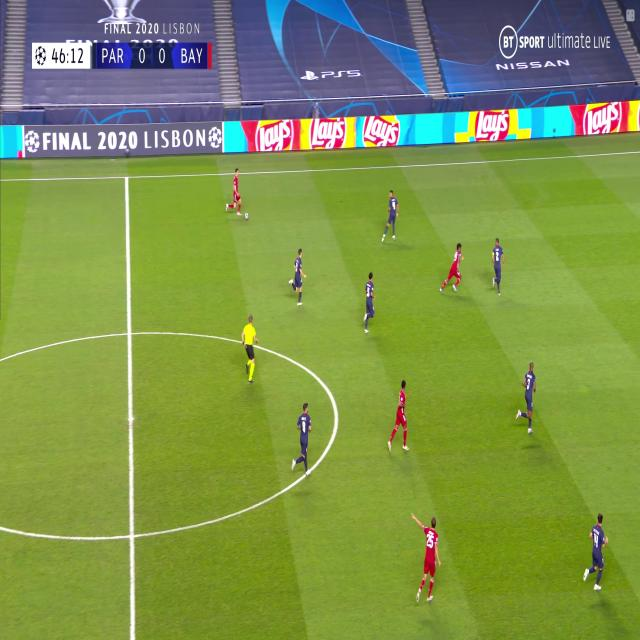ball: (244, 211, 249, 220)
player: (413, 513, 442, 602), (583, 512, 609, 592), (386, 378, 412, 454), (291, 400, 313, 479), (516, 361, 538, 438), (241, 312, 259, 386), (439, 244, 464, 294), (288, 248, 308, 307), (225, 166, 245, 218), (489, 237, 505, 298), (362, 271, 377, 334), (381, 189, 398, 243)
